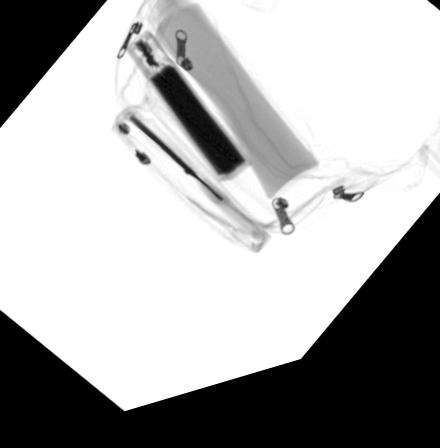Powerbank: (117, 33, 253, 198)
Scissors: (124, 118, 275, 260)
